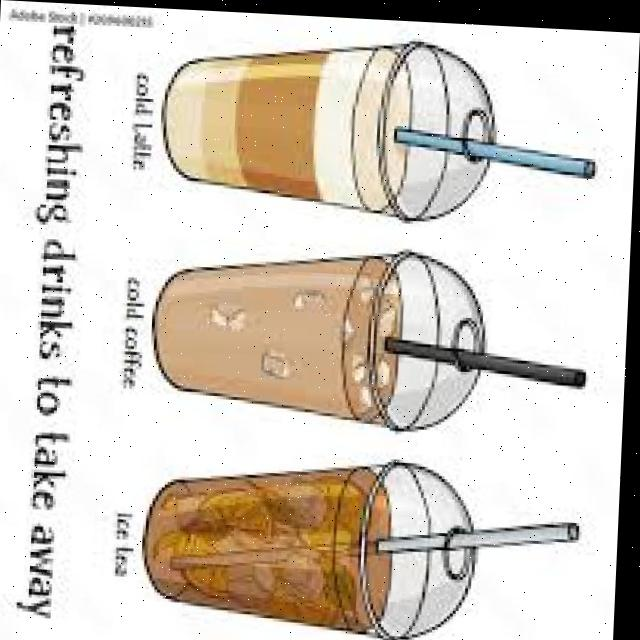cup: (165, 42, 433, 215), (157, 251, 404, 423), (149, 463, 393, 629)
